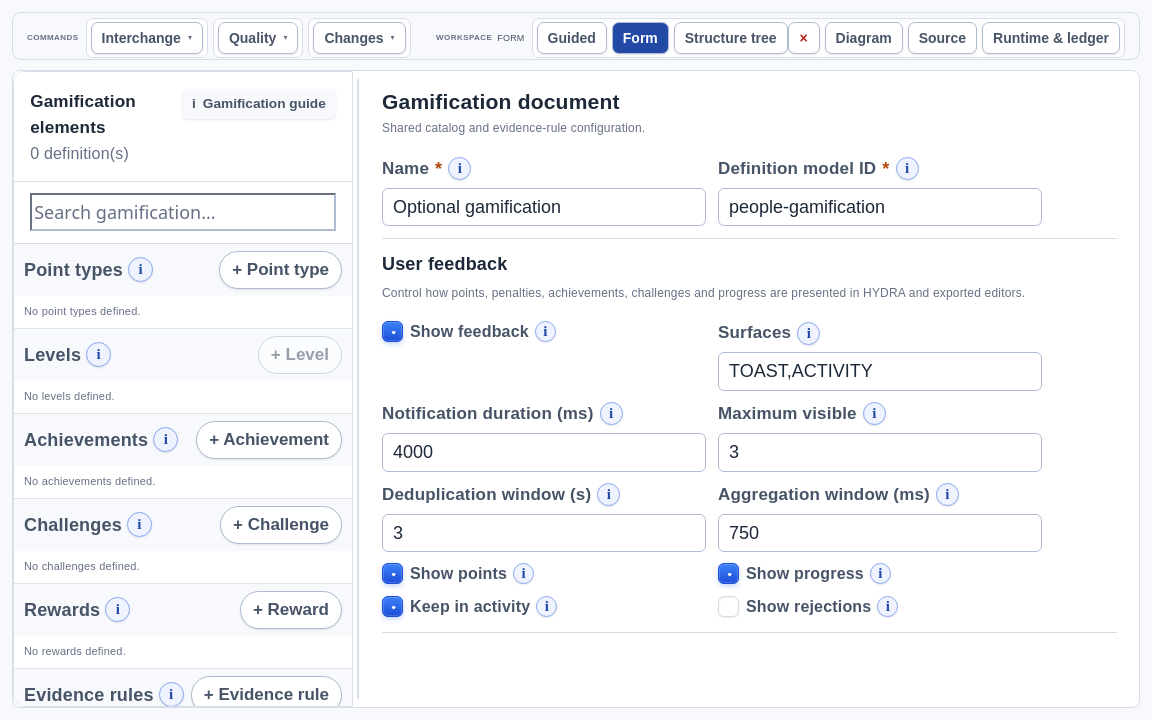
Test: gamification designer forms › opens the gamification process guide
The width and height of the screenshot is (1152, 720).
Click the button "i Gamification guide". click: (259, 104)
box: [182, 88, 336, 118]
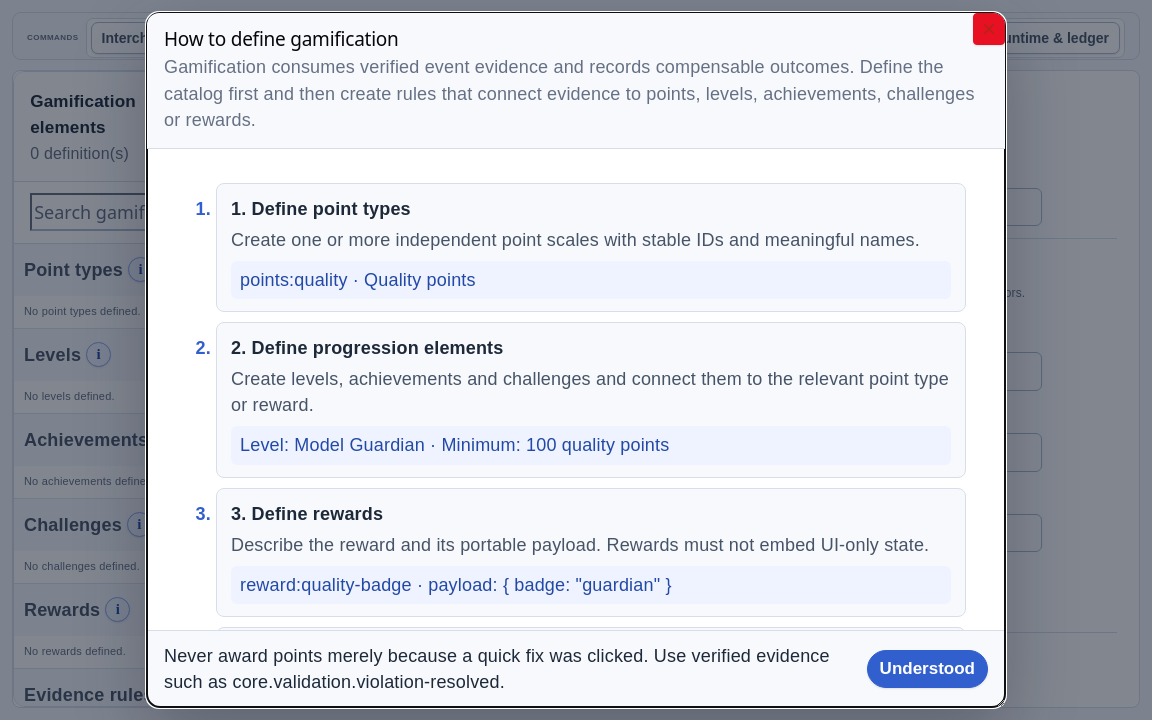
Expected: the dialog shows "How to define gamification", [164, 26, 399, 52]
Expected: the dialog shows "verified event evidence", [164, 57, 975, 130]
